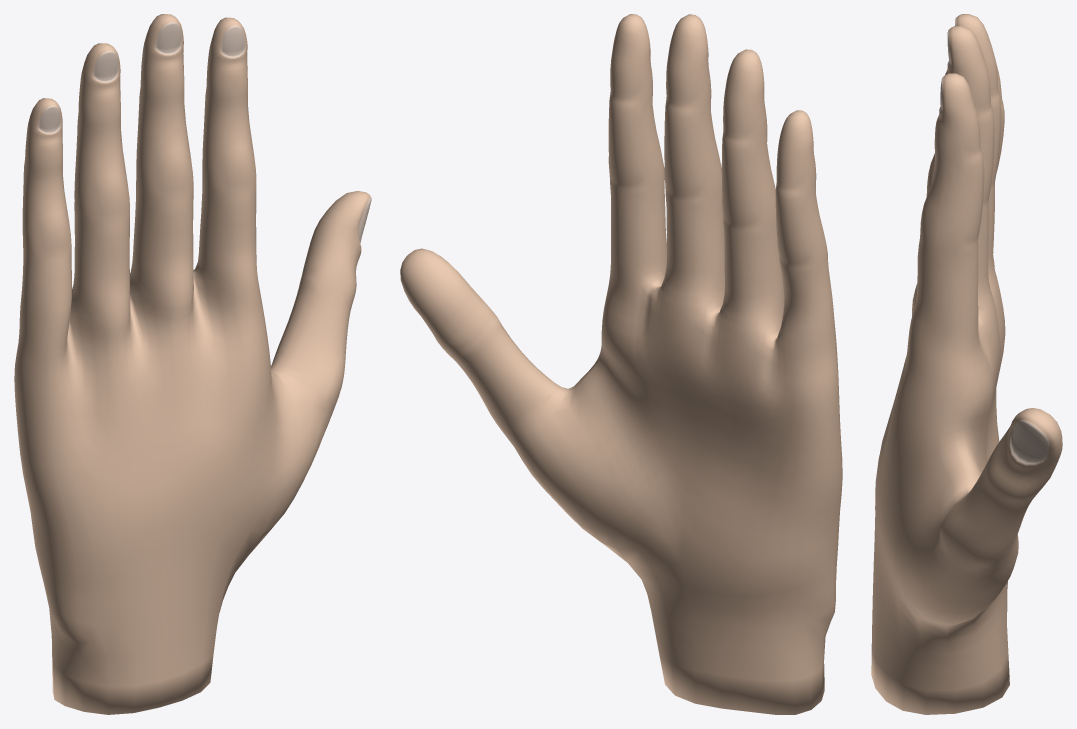
File: Hand.glb
3 renders of one model, left to right at view 1: azimuth 30°, elevation 25°; view 2: azimuth 150°, elevation 25°; view 3: azimuth 270°, elevation 25°, orthographic. The views are drawn at different scales.
Parts seen in each view (by area): view 1: Hand_Geo; view 2: Hand_Geo; view 3: Hand_Geo.
Boxes of the visible parts, left/top/right/bottom form: Hand_Geo: left=14, top=14, right=371, bottom=714; Hand_Geo: left=400, top=14, right=842, bottom=714; Hand_Geo: left=871, top=14, right=1062, bottom=714.
Size of the model in its own units: 0.5274 by 0.853 by 0.2179.
